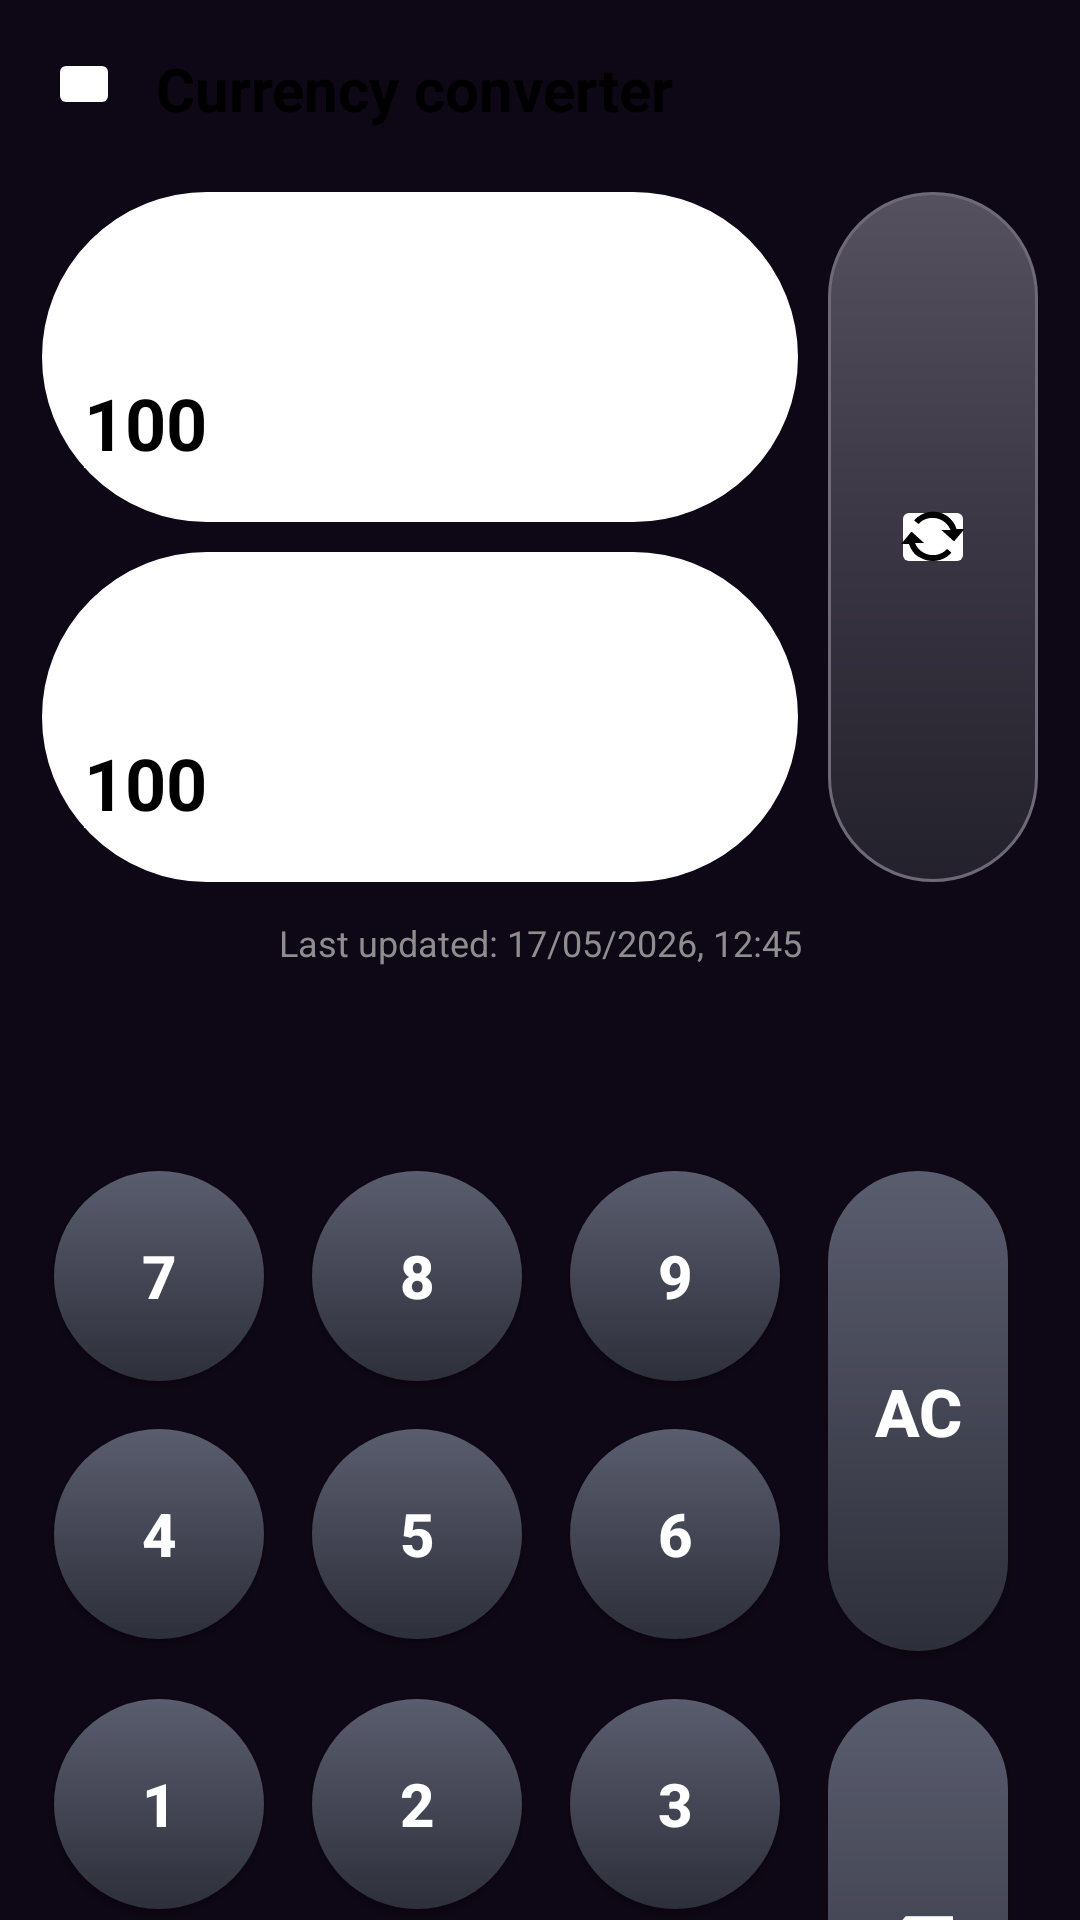

Screen size 1080w x 1920h. Icon name, then its box in pixels as {"x1": x1, "y1": y1, "x2": x2, "y2": y2}:
sync: {"x1": 901, "y1": 512, "x2": 964, "y2": 561}
